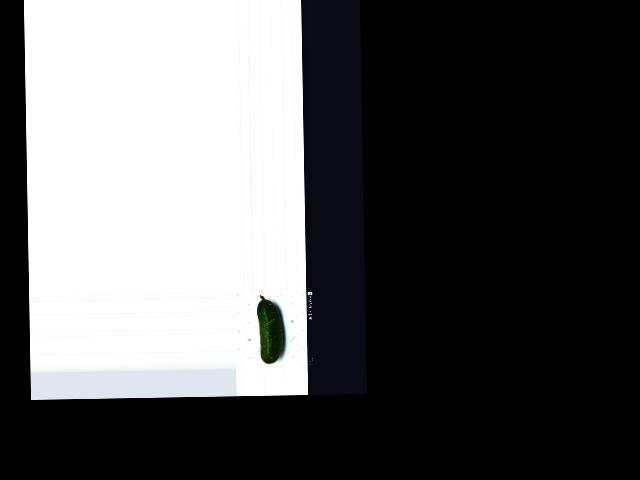cucumber: (256, 295, 283, 364)
